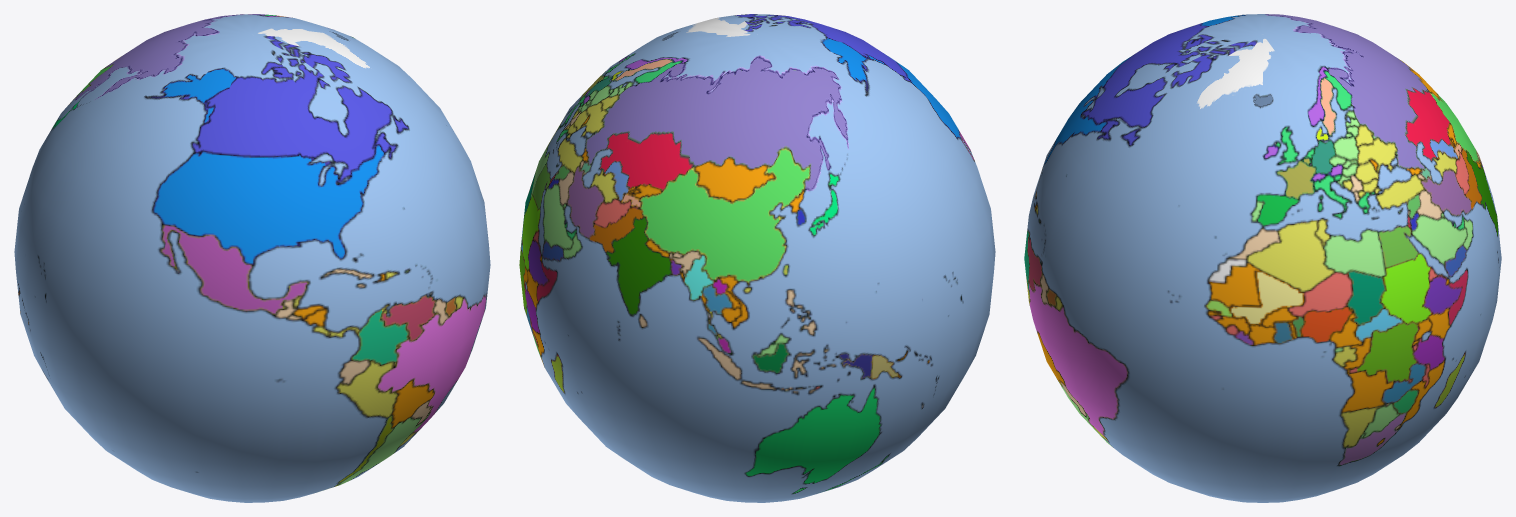
File: countries.fbx
The picture shows the model from 3 angles, left to right: view 1: azimuth 30°, elevation 25°; view 2: azimuth 150°, elevation 25°; view 3: azimuth 270°, elevation 25°; orthographic projection.
Visible parts, largest first — view 1: Sphere; view 2: Sphere; view 3: Sphere.
Part boxes in pixels (x1=…): Sphere: x1=14, y1=14, x2=490, y2=502; Sphere: x1=519, y1=14, x2=995, y2=502; Sphere: x1=1024, y1=14, x2=1501, y2=502.
Bounding box in the file's own units: 190 × 197 × 190.
1 material, 1 textured.
